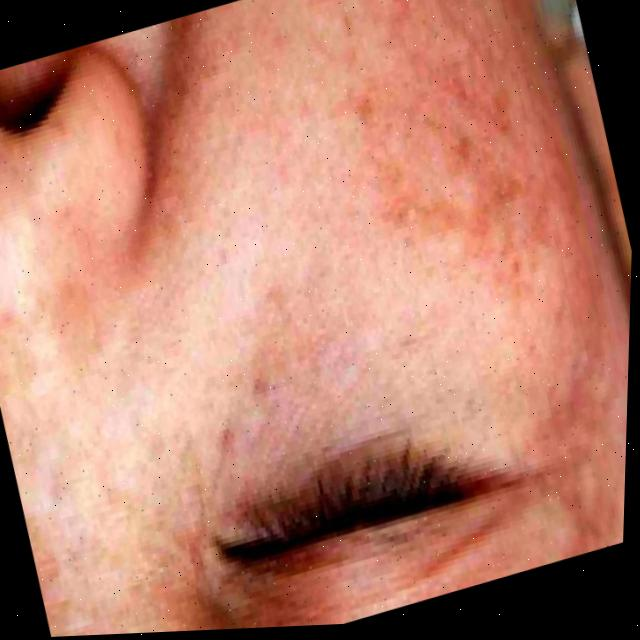Melasma: (294, 0, 598, 314)
